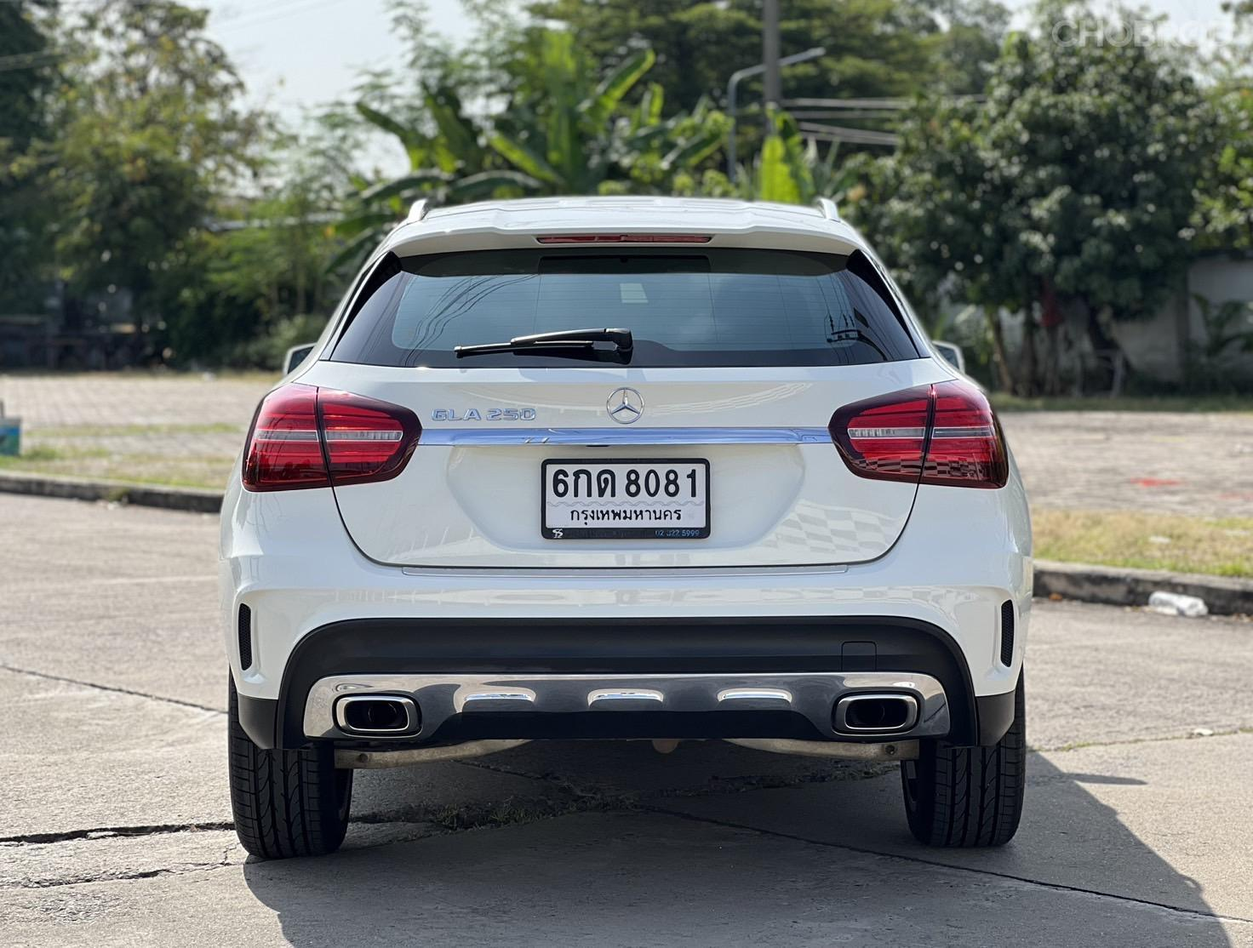license-plate: (541, 455, 715, 546)
